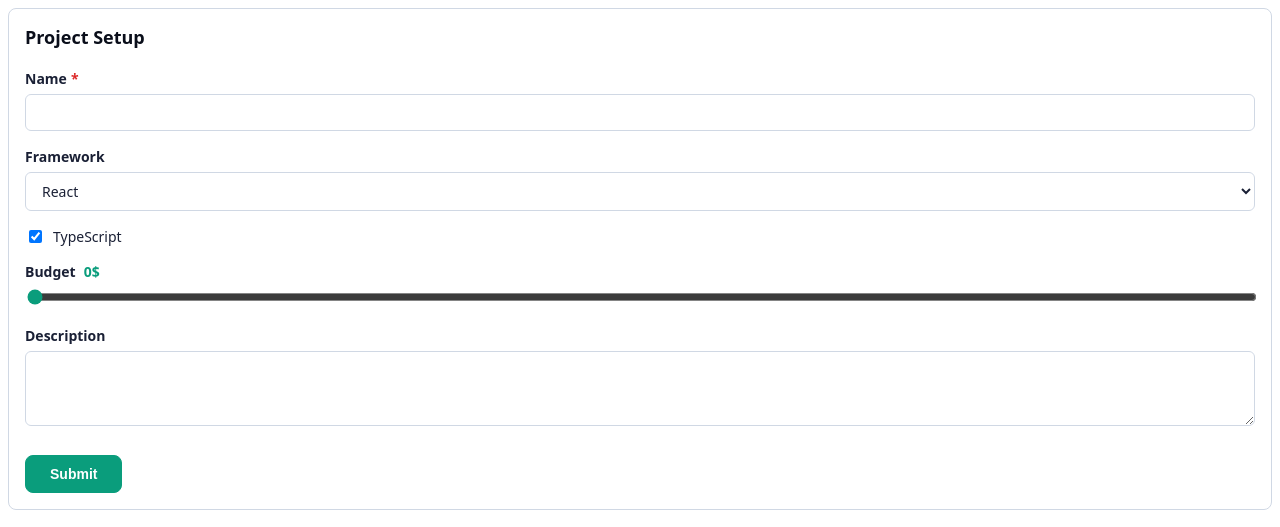
Test: Form › disables form after submission
Type "Test" into the field labelled "Name*". click: (640, 112)
box: [25, 94, 1255, 131]
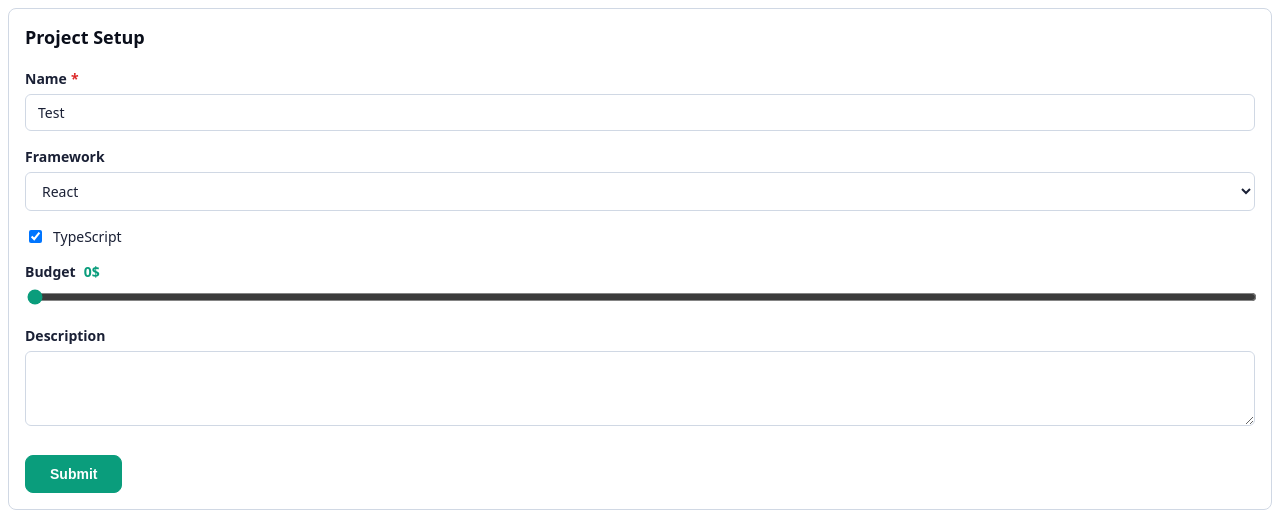
Click the button "Submit". click: (74, 474)
box: [25, 455, 122, 493]
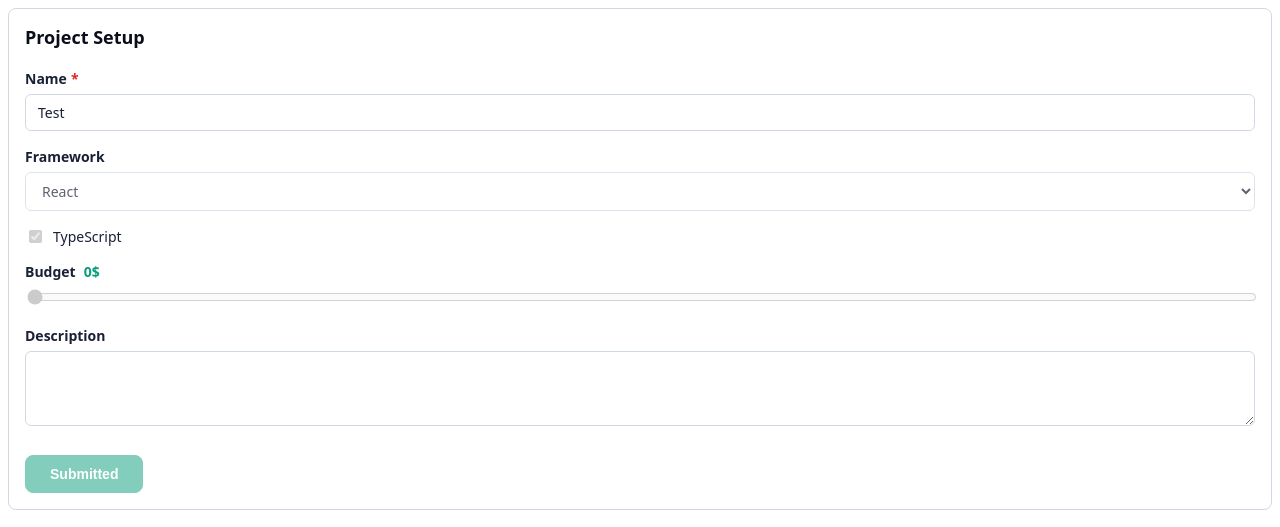
Expected: the button "Submitted" is shown, [25, 455, 144, 493]
